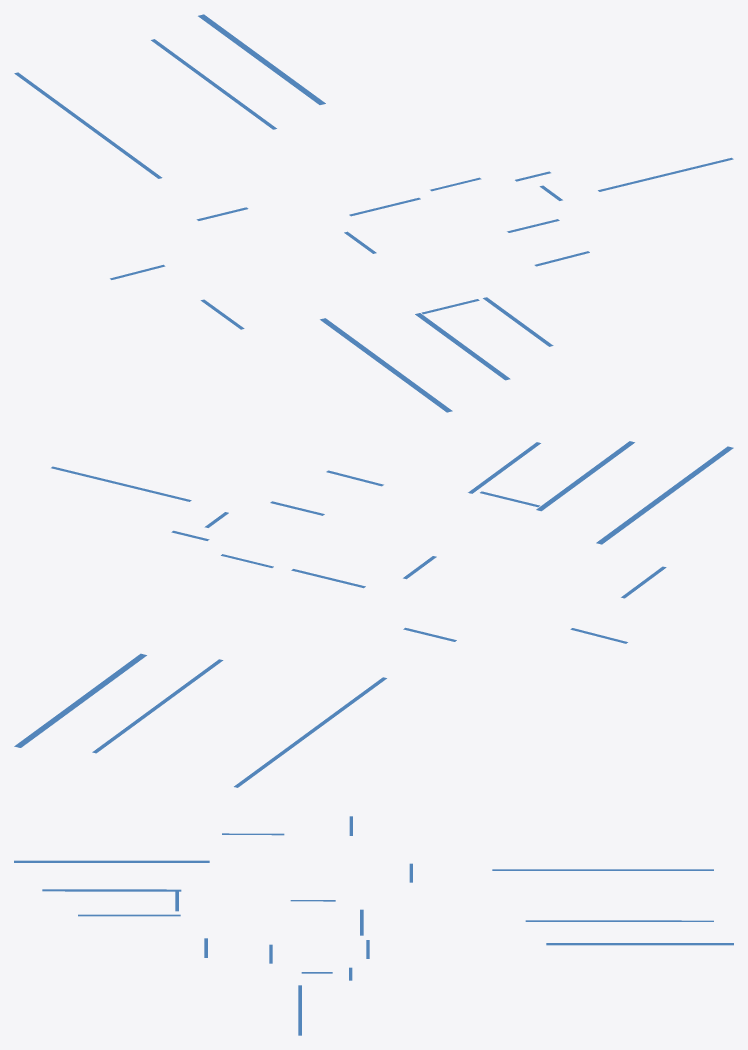
File: data.gltf
The picture shows the model from 3 angles, top to bottom: view 1: azimuth 30°, elevation 25°; view 2: azimuth 150°, elevation 25°; view 3: azimuth 270°, elevation 25°; orthographic projection. The views are drawn at different scales.
Visible parts, largest first — view 1: Data; view 2: Data; view 3: Data.
Part boxes in pixels (left/top/right/bottom): Data: left=14, top=14, right=733, bottom=412; Data: left=14, top=441, right=733, bottom=787; Data: left=14, top=816, right=733, bottom=1035.
Bounding box in the file's own units: 1.18 × 0.00811 × 1.62.
